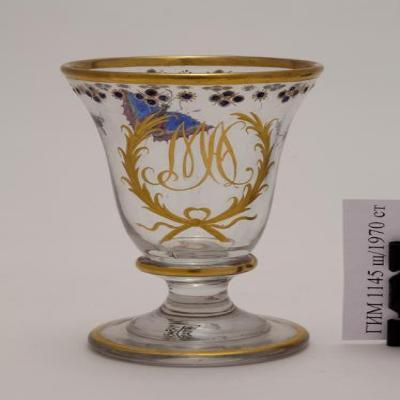dpi: (61, 56, 324, 370)
